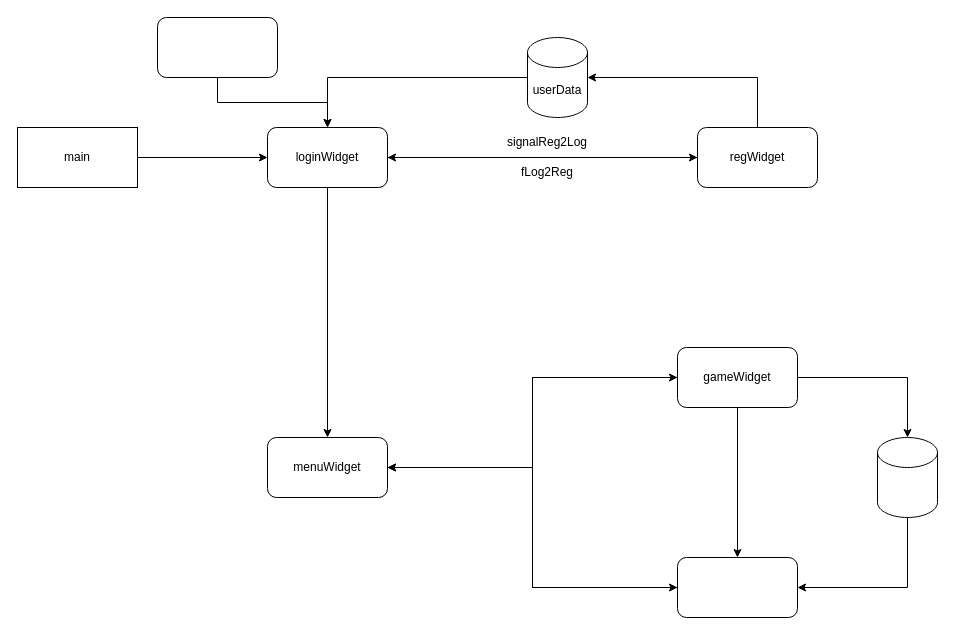
Image size: 955x635. Some labels were removed from this diagram. The centre of each missing label's shape, as x and y in pixels:
"myCode" belongs at (x=217, y=47).
"rankData" belongs at (x=907, y=477).
"rankWidget" belongs at (x=737, y=587).
